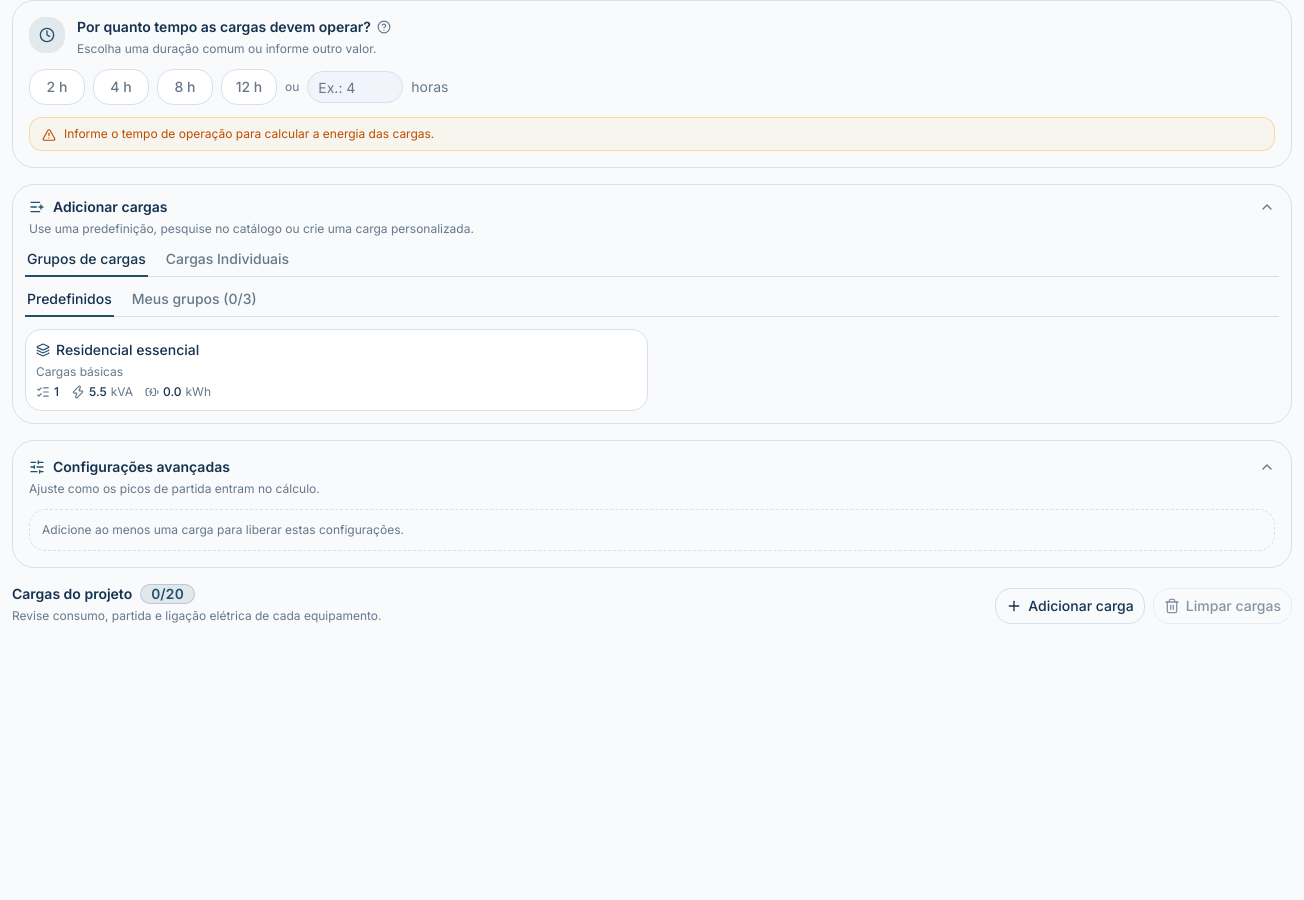
Scenario: LoadSelector: collapsible sections › switches to the Cargas Individuais tab
The width and height of the screenshot is (1304, 900).
Click the tab "Cargas Individuais": [228, 263] box [164,249,291,277]
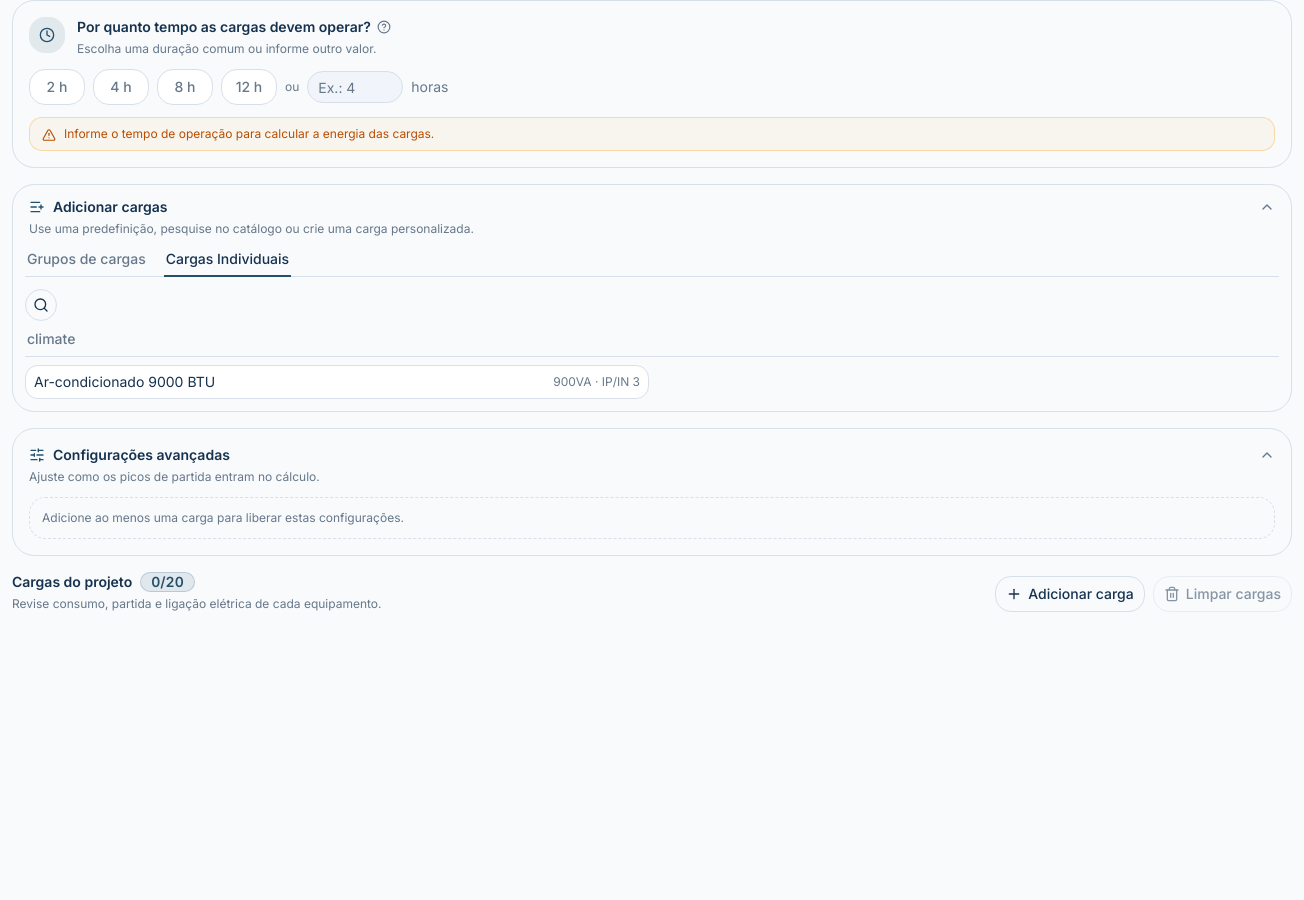
Click the button named "Buscar equipamento...": [41, 305] box [25,289,57,321]
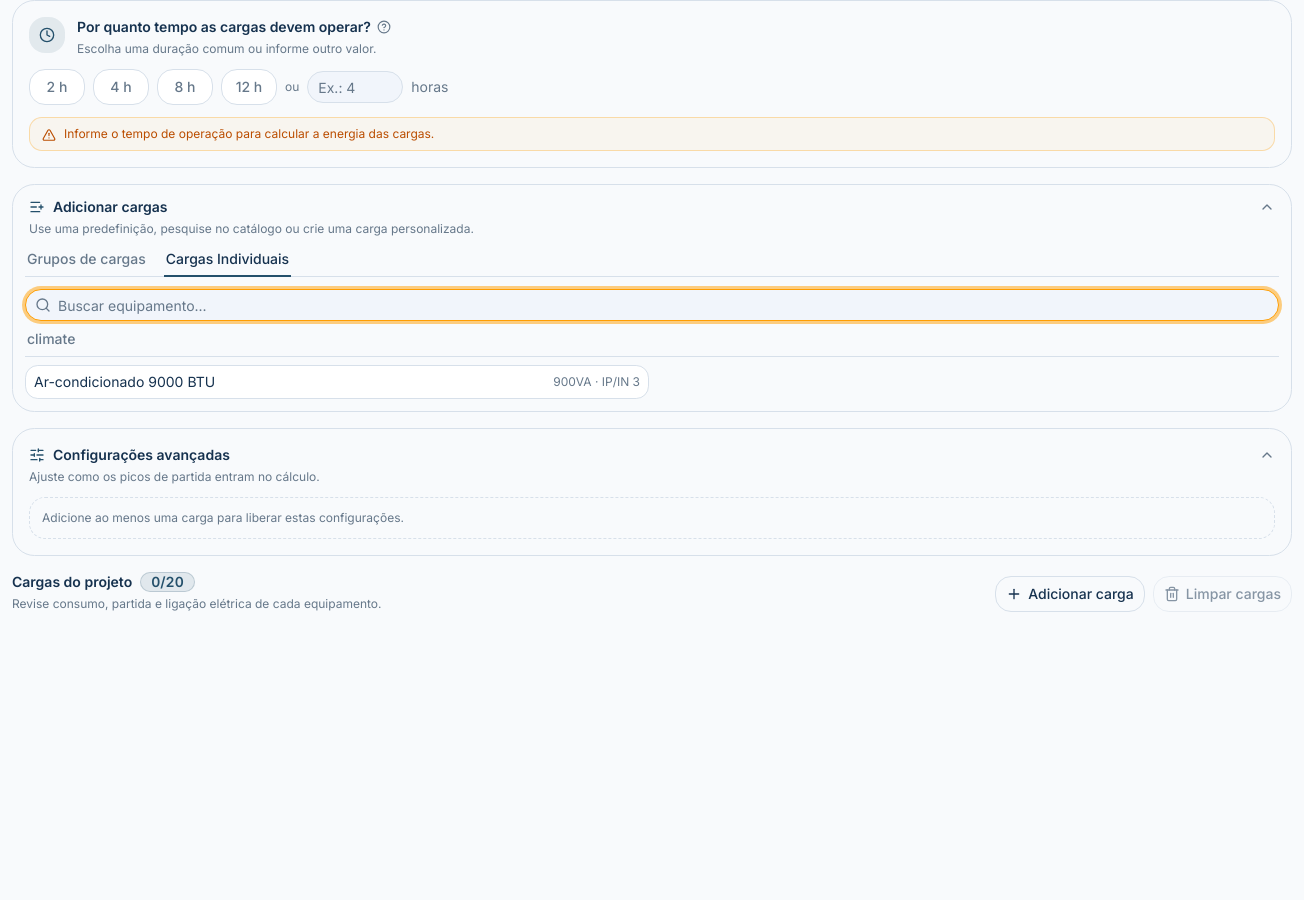
Expected: the button "Residencial essencial" is not shown
Now the field with placeholder "Buscar equipamento..." is shown, box [25,289,1279,321]
